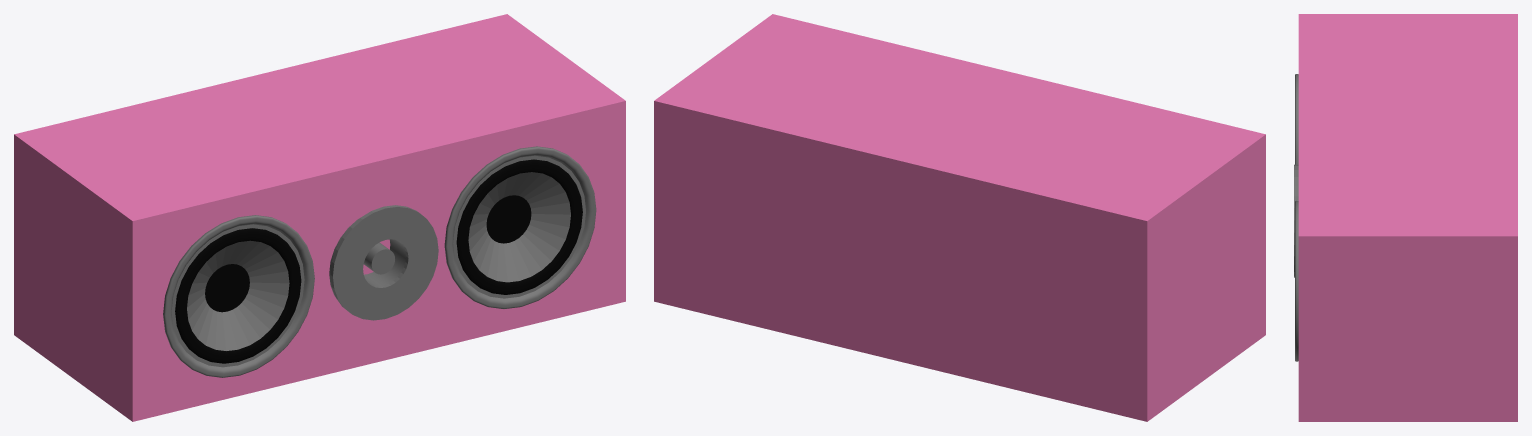
The model's file is 스피커_핑.FBX.
3 views of the same model, side by side, from view 1: azimuth 30°, elevation 25°; view 2: azimuth 150°, elevation 25°; view 3: azimuth 270°, elevation 25° (orthographic). The views are drawn at different scales.
Parts seen in each view (by area): view 1: Box003, Circle011, Circle012, Circle009; view 2: Box003; view 3: Box003, Circle011, Circle012, Circle009.
Boxes of the visible parts, x1=… form: Box003: x1=14, y1=14, x2=625, y2=421; Circle011: x1=444, y1=146, x2=596, y2=308; Circle012: x1=163, y1=215, x2=314, y2=377; Circle009: x1=329, y1=205, x2=438, y2=320; Box003: x1=654, y1=14, x2=1265, y2=421; Box003: x1=1298, y1=14, x2=1517, y2=421; Circle011: x1=1295, y1=201, x2=1298, y2=361; Circle012: x1=1295, y1=74, x2=1298, y2=164; Circle009: x1=1294, y1=164, x2=1298, y2=277.
Bounding box in the file's own units: 497 × 193 × 211.
